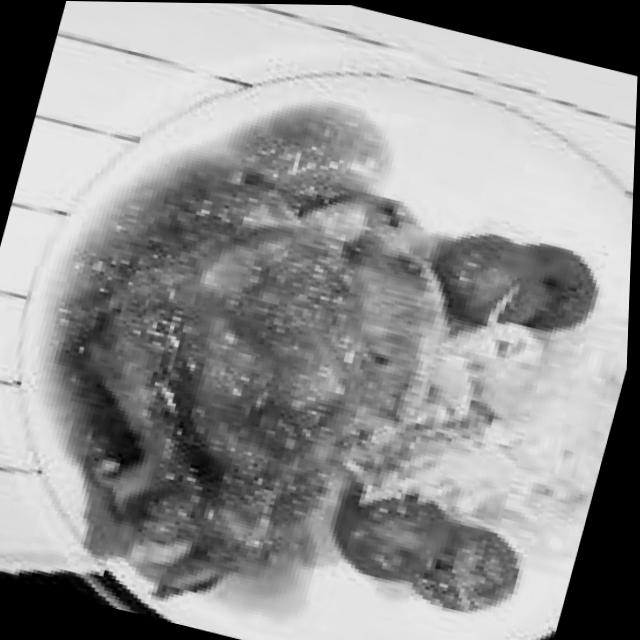猪肉菜式: (1, 9, 640, 640)
